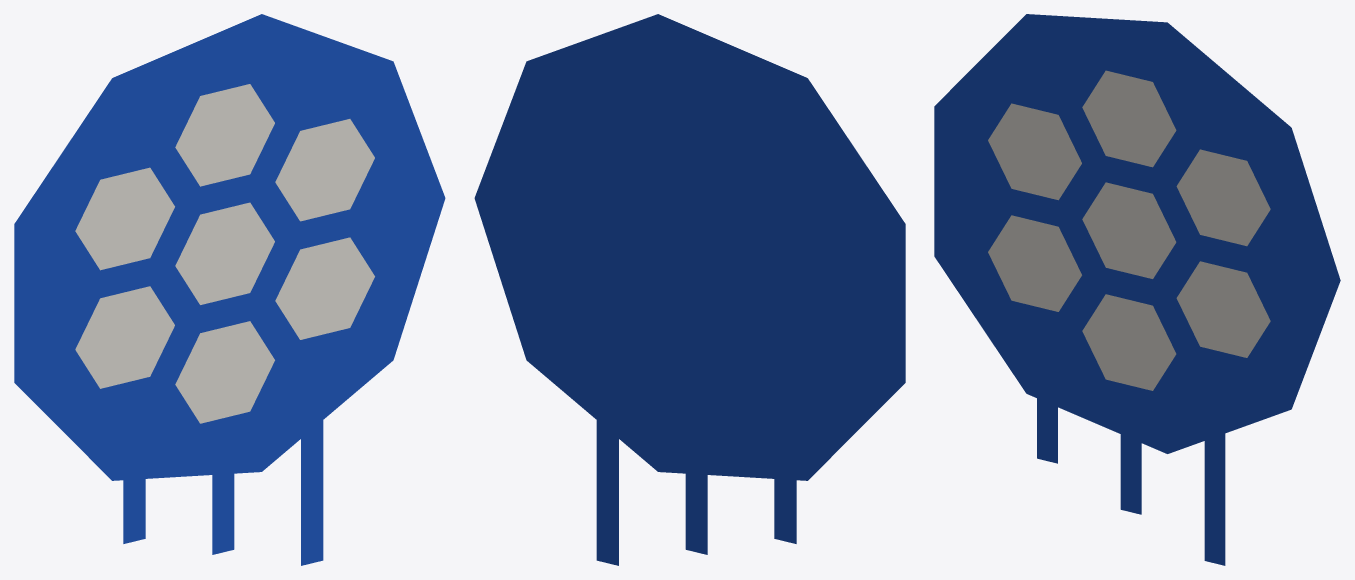
The model's file is tag_nuee.glb.
The picture shows the model from 3 angles, left to right: view 1: azimuth 30°, elevation 25°; view 2: azimuth 150°, elevation 25°; view 3: azimuth 330°, elevation 25°; orthographic projection. The views are drawn at different scales.
Parts seen in each view (by area): view 1: tag_nuee; view 2: tag_nuee; view 3: tag_nuee.
Part boxes in pixels (<box>): tag_nuee: <box>14,14,445,565</box>; tag_nuee: <box>474,14,905,565</box>; tag_nuee: <box>934,14,1340,565</box>.
Size of the model in its own units: 3.88 by 4.83 by 0.03.
